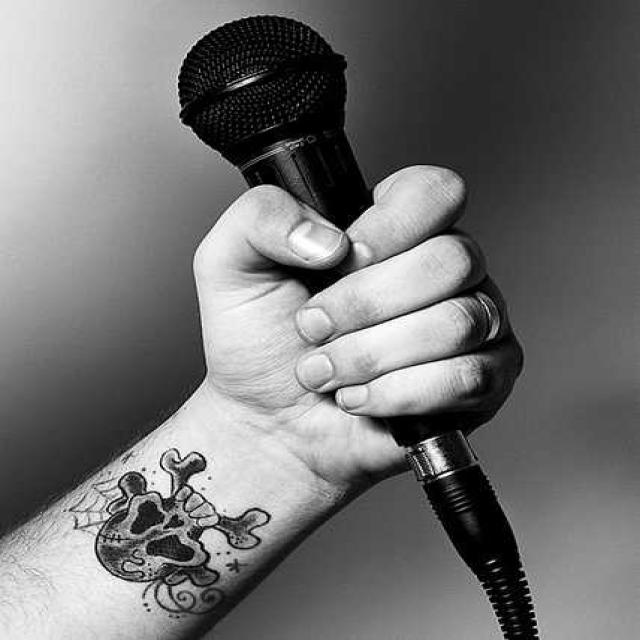microphone: (178, 19, 491, 425)
